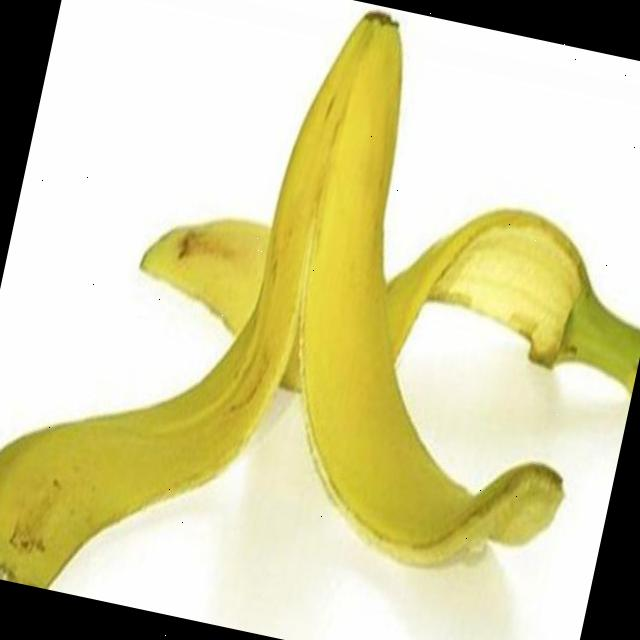banana-peel: (0, 0, 640, 640), (211, 0, 640, 593)
